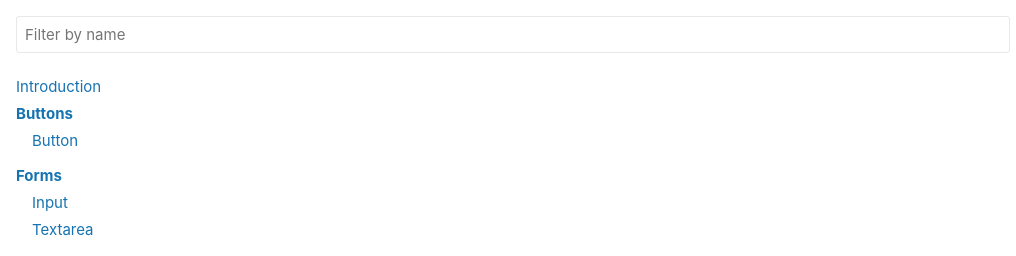
Test: should filter section names
Expected: the number of links with test id "rsg-toc-link" is 6, [16,77,101,96]; [16,104,73,123]; [32,131,78,150]; [16,166,62,185]; [32,193,68,212]; [32,220,94,239]
Type "frm" into the field with placeholder "Filter by name" at (513, 34), box [16,16,1010,53]
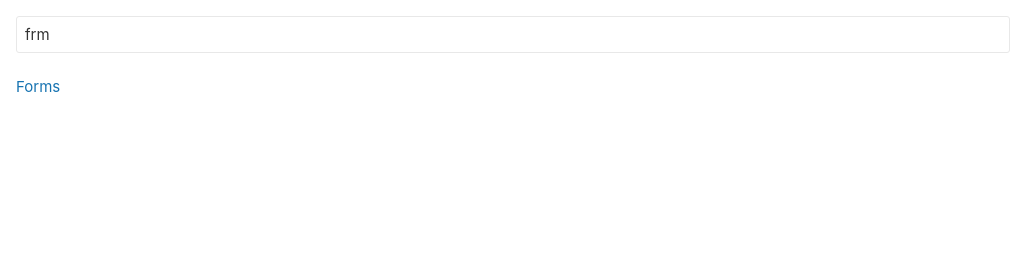
Expected: the link with test id "rsg-toc-link" reads "Forms", [16,77,60,96]
Expected: the number of links with test id "rsg-toc-link" is 1, [16,77,60,96]
